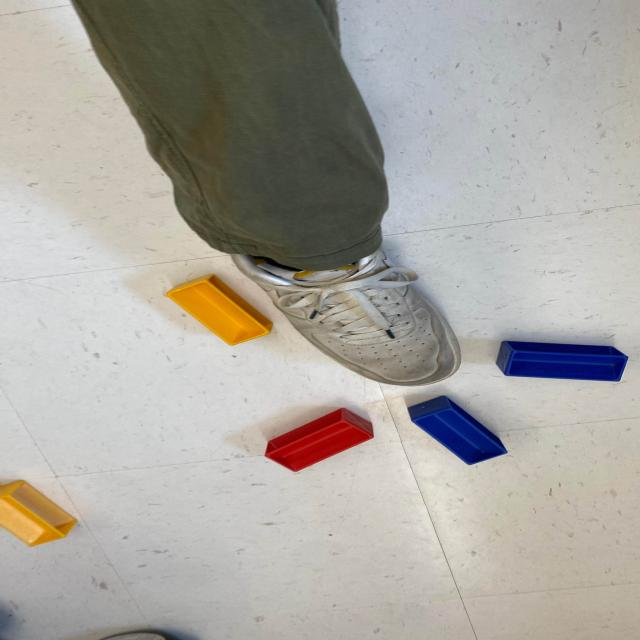blue-specimen: (407, 393, 506, 467), (492, 338, 633, 383)
red-specimen: (262, 408, 376, 473)
yellow-specimen: (163, 273, 278, 347), (0, 476, 80, 550)
